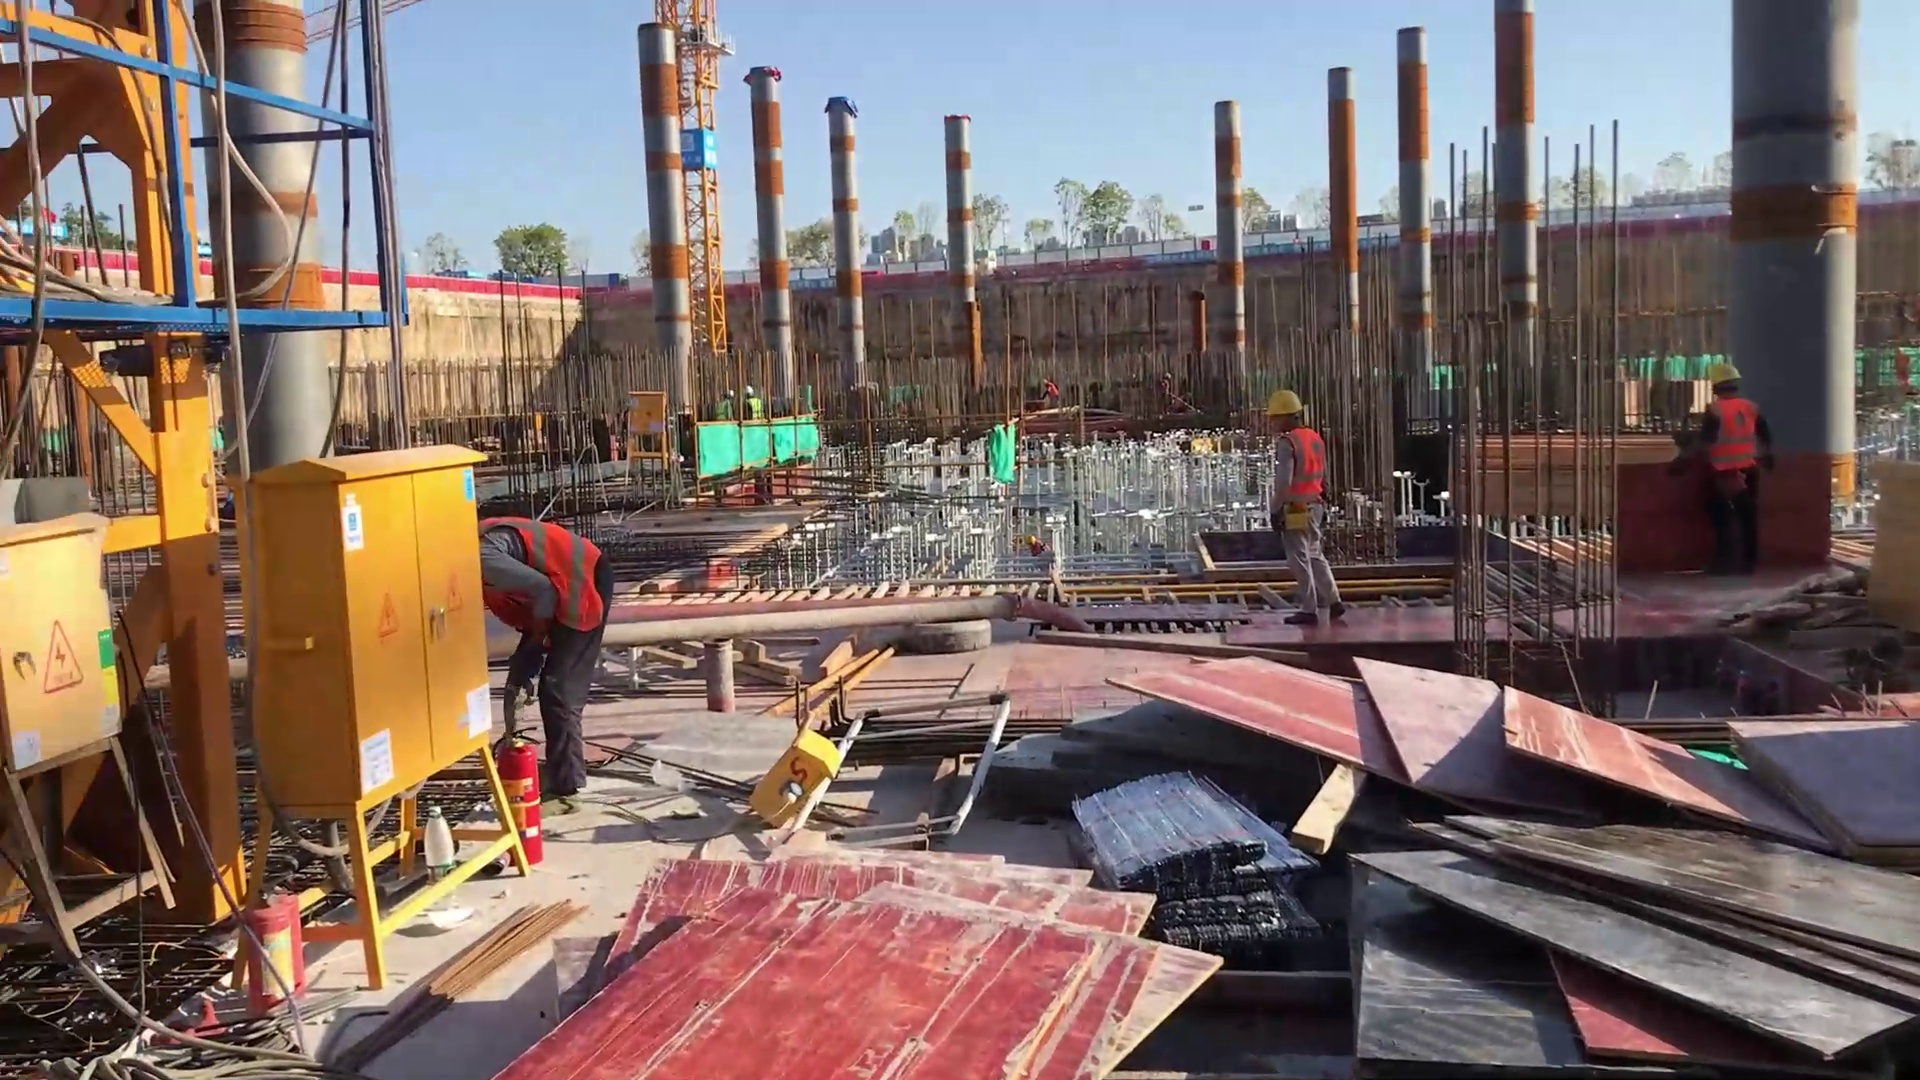helmet: (1264, 387, 1307, 423), (1701, 360, 1748, 387)
person: (475, 506, 626, 812), (1260, 390, 1370, 631), (1686, 352, 1786, 565), (745, 385, 766, 421), (1040, 376, 1061, 407)
vest: (475, 513, 615, 634), (1274, 426, 1329, 509), (1704, 397, 1758, 480), (1044, 382, 1060, 400)
